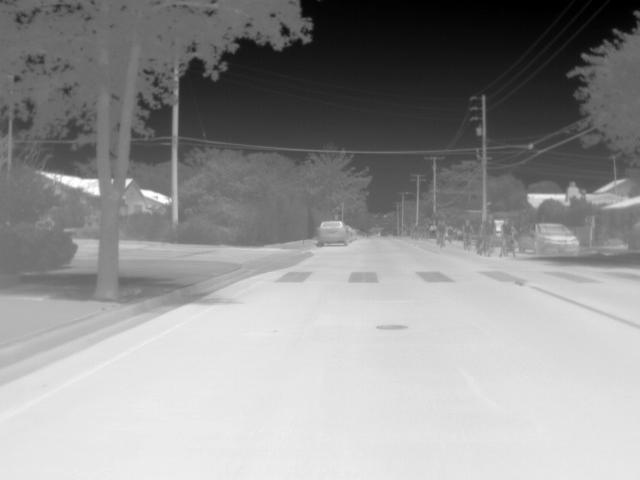car: (517, 220, 583, 258), (317, 218, 350, 246)
person: (482, 213, 501, 254), (501, 215, 518, 250), (460, 220, 477, 250), (434, 219, 450, 242)
